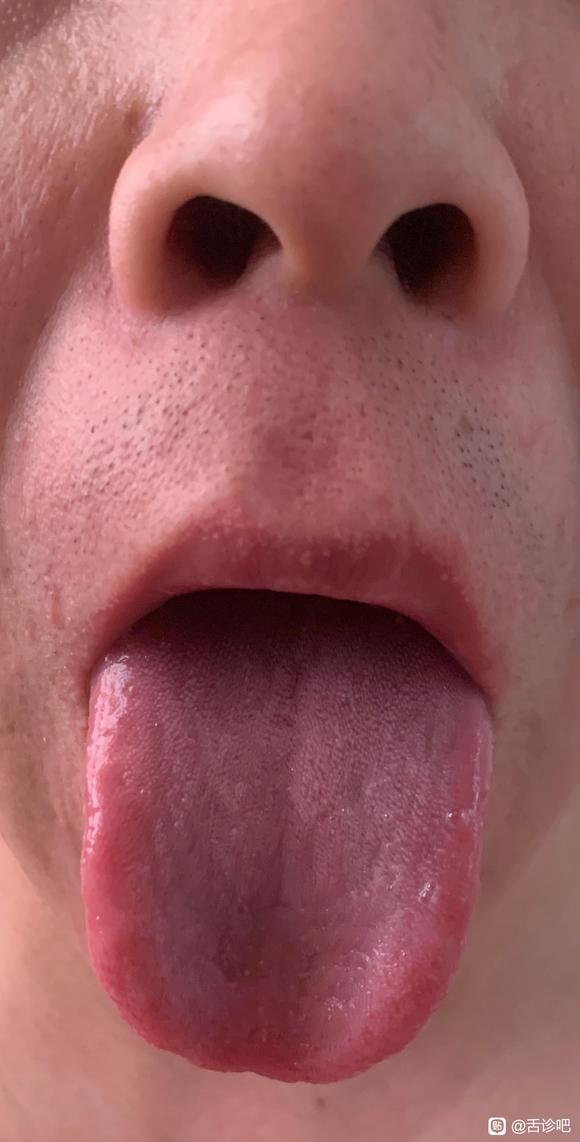hongshe: (81, 610, 493, 1085)
